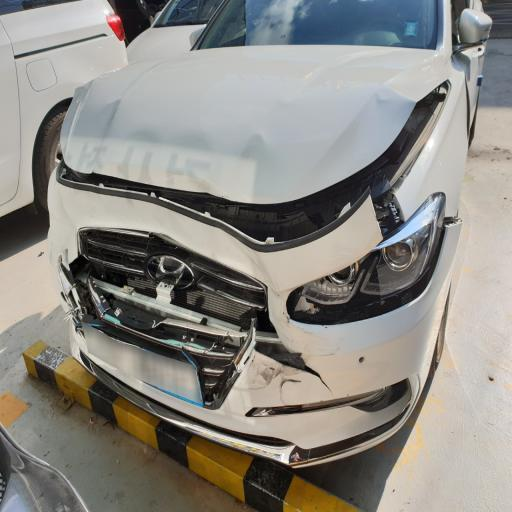broken: (69, 198, 337, 439), (59, 229, 266, 408)
